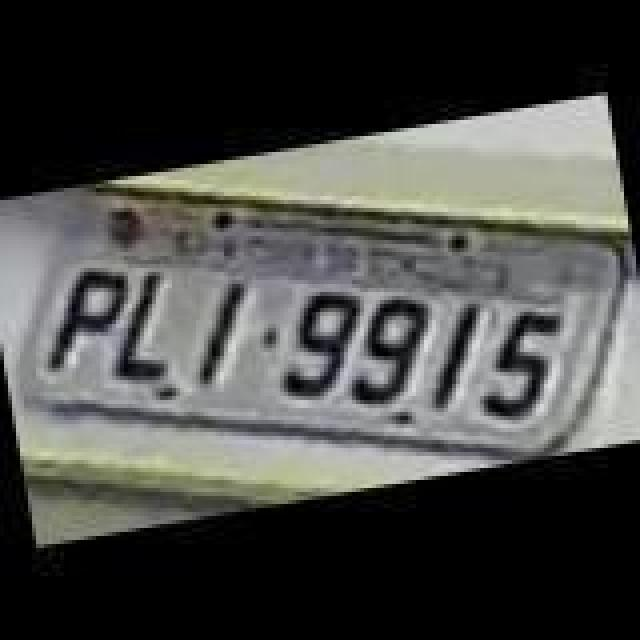1: (178, 270, 270, 386), (412, 298, 492, 414)
5: (464, 302, 576, 426)
9: (336, 288, 448, 416), (274, 284, 382, 404)
L: (90, 264, 182, 392)
P: (28, 260, 140, 372)
